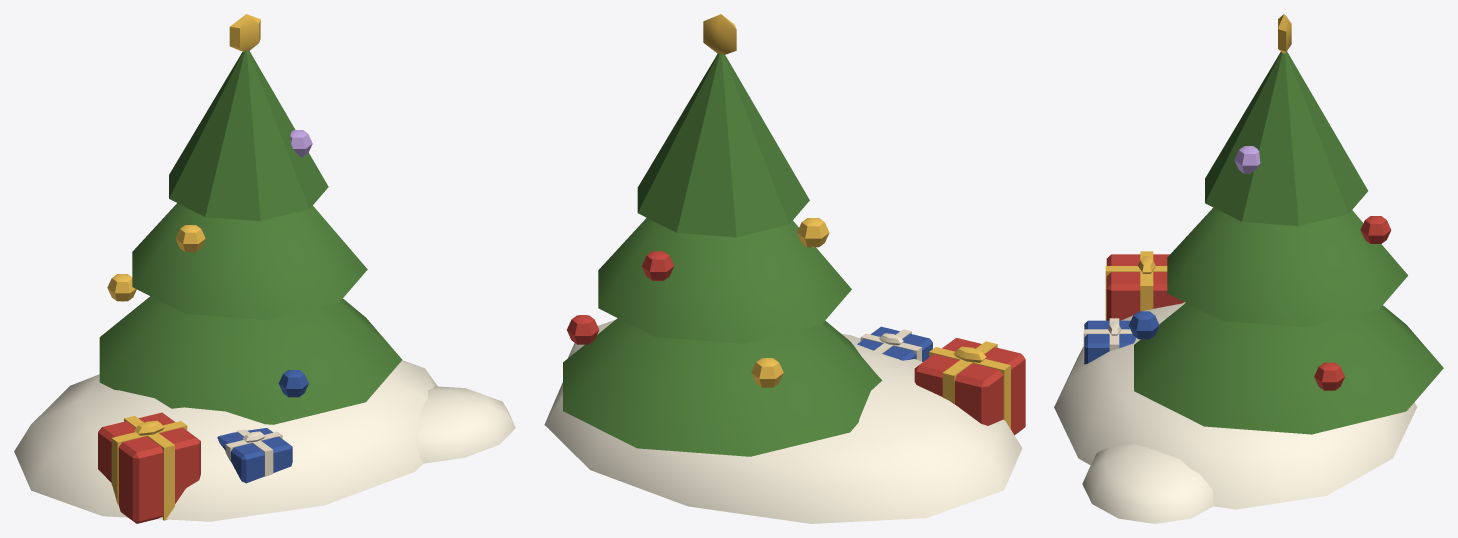
The model's file is PR_Season_Kis_Yigin.fbx.
3 views of the same model, side by side, from view 1: azimuth 30°, elevation 25°; view 2: azimuth 150°, elevation 25°; view 3: azimuth 270°, elevation 25° (orthographic). The views are drawn at different scales.
Parts seen in each view (by area): view 1: PR_Season_Kis_Yigin; view 2: PR_Season_Kis_Yigin; view 3: PR_Season_Kis_Yigin.
Part boxes in pixels (x1,y1,x2,y2): PR_Season_Kis_Yigin: [14, 14, 515, 523]; PR_Season_Kis_Yigin: [544, 14, 1025, 523]; PR_Season_Kis_Yigin: [1054, 14, 1443, 523].
Size of the model in its own units: 1.28 by 1.12 by 0.966.
